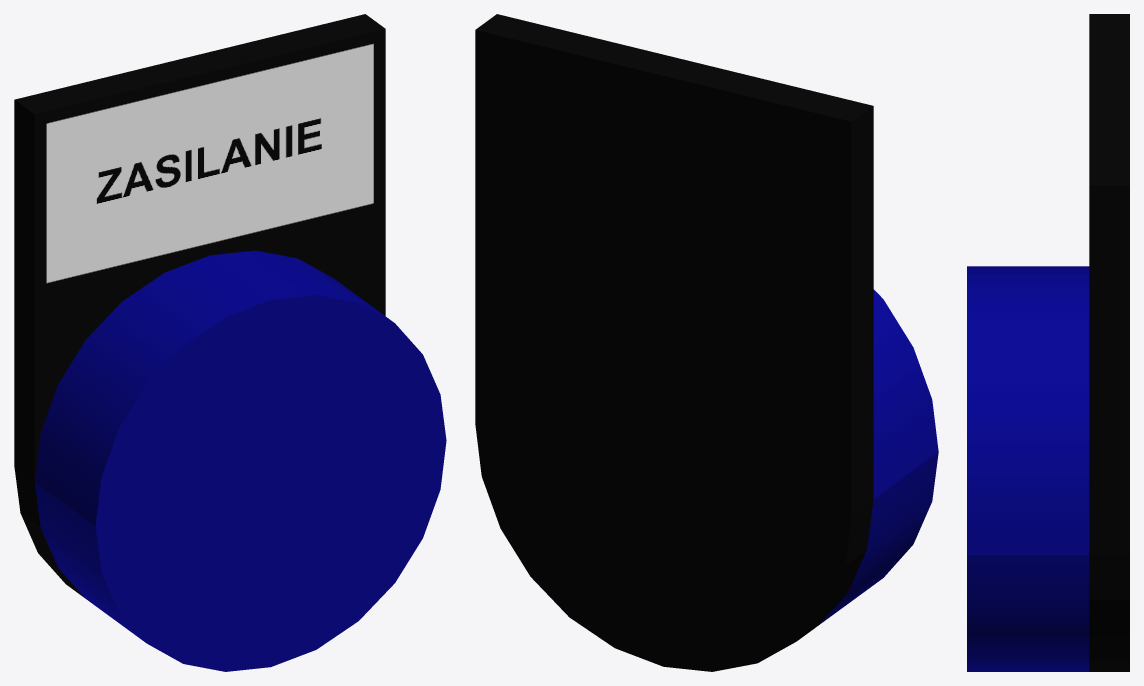
The model's file is zasilanie.fbx.
3 renders of one model, left to right at view 1: azimuth 30°, elevation 25°; view 2: azimuth 150°, elevation 25°; view 3: azimuth 270°, elevation 25°, orthographic. The views are drawn at different scales.
Visible parts, largest first — view 1: Model; view 2: Model; view 3: Model.
Part boxes in pixels (x1,y1,x2,y2): Model: [14, 14, 446, 671]; Model: [475, 14, 938, 671]; Model: [967, 14, 1129, 671].
Bounding box in the file's own units: 0.1 × 0.15 × 0.04.
